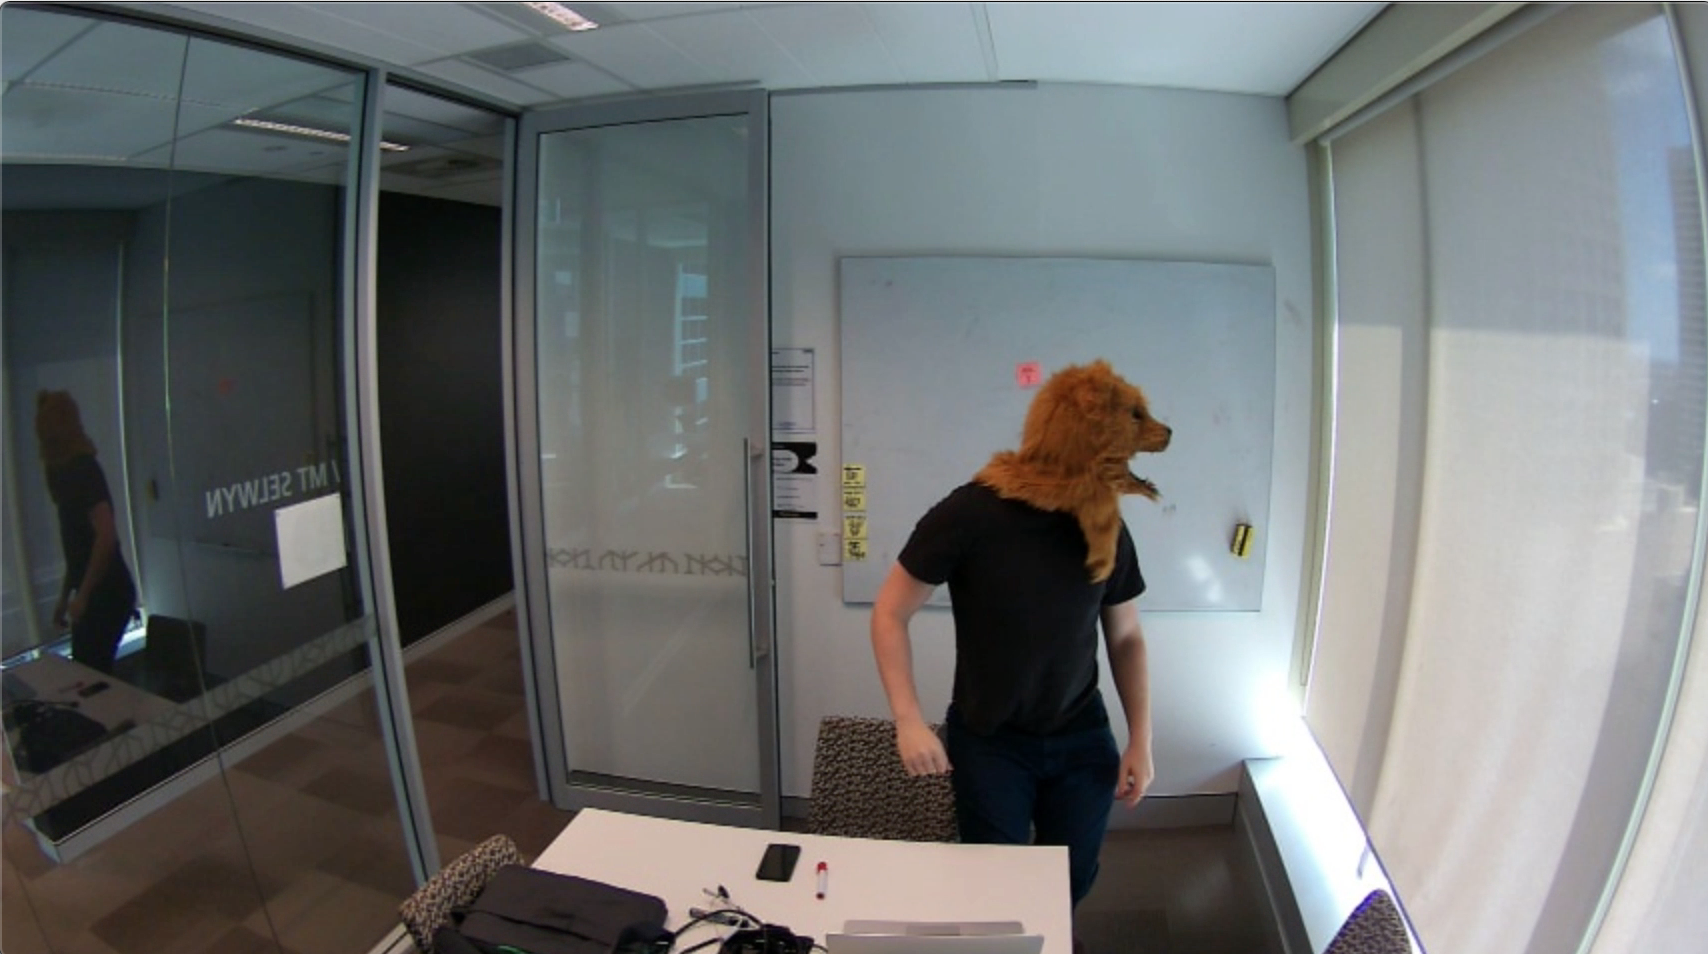Bear: (1018, 352, 1181, 510)
